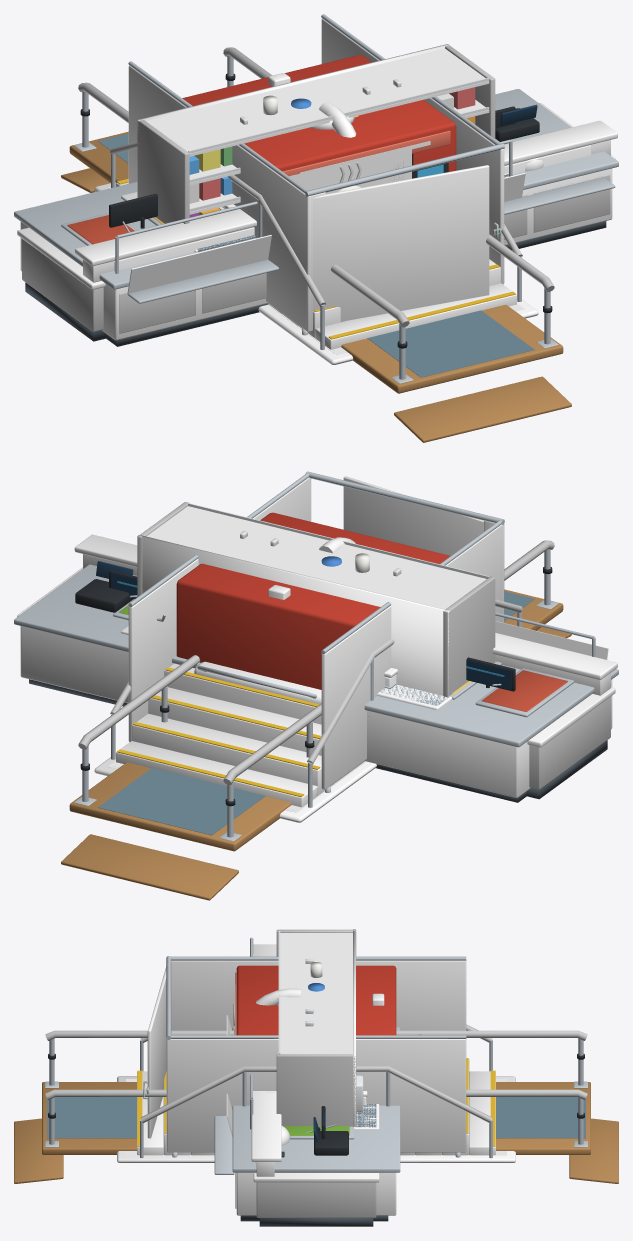
The model's file is furniture_kit.glb.
3 renders of one model, top to bottom at view 1: azimuth 30°, elevation 25°; view 2: azimuth 150°, elevation 25°; view 3: azimuth 270°, elevation 25°, orthographic. The views are drawn at different scales.
Parts seen in each view (by area): view 1: toilet_cubicle, food_counter, medicine_shelves, parallel_bars, reception_desk, vending_machine_0, practice_stairs, food_counter_glass, vending_machine_0_glass, exercise_mat, c_arm, cleaning_shelves; view 2: food_counter, medicine_shelves, toilet_cubicle, parallel_bars, practice_stairs, vending_machine_0, reception_desk, c_arm, exercise_mat, food_counter_glass, pharmacy_counter, cleaning_shelves; view 3: toilet_cubicle, parallel_bars, medicine_shelves, food_counter, reception_desk, practice_stairs, vending_machine_0, exercise_mat, kitchenette, pharmacy_counter, cleaning_shelves, c_arm (+1 smaller).
Boxes of the visible parts, x1=… form: toilet_cubicle: x1=128, y1=14, x2=504, y2=335; food_counter: x1=14, y1=89, x2=618, y2=346; medicine_shelves: x1=137, y1=44, x2=495, y2=223; parallel_bars: x1=61, y1=47, x2=571, y2=442; reception_desk: x1=17, y1=103, x2=617, y2=341; vending_machine_0: x1=182, y1=55, x2=456, y2=178; practice_stairs: x1=110, y1=141, x2=522, y2=350; food_counter_glass: x1=127, y1=157, x2=543, y2=293; vending_machine_0_glass: x1=289, y1=149, x2=411, y2=193; exercise_mat: x1=94, y1=182, x2=538, y2=364; c_arm: x1=310, y1=102, x2=356, y2=137; cleaning_shelves: x1=240, y1=79, x2=401, y2=124; food_counter: x1=14, y1=561, x2=618, y2=802; medicine_shelves: x1=137, y1=502, x2=495, y2=697; toilet_cubicle: x1=128, y1=471, x2=504, y2=792; parallel_bars: x1=61, y1=540, x2=571, y2=900; practice_stairs: x1=110, y1=599, x2=522, y2=807; vending_machine_0: x1=176, y1=512, x2=450, y2=689; reception_desk: x1=17, y1=534, x2=617, y2=799; c_arm: x1=194, y1=537, x2=355, y2=704; exercise_mat: x1=94, y1=753, x2=376, y2=822; food_counter_glass: x1=495, y1=621, x2=608, y2=659; pharmacy_counter: x1=121, y1=626, x2=452, y2=710; cleaning_shelves: x1=240, y1=530, x2=401, y2=576; toilet_cubicle: x1=143, y1=956, x2=466, y2=1157; parallel_bars: x1=14, y1=1030, x2=618, y2=1183; medicine_shelves: x1=276, y1=929, x2=356, y2=1126; food_counter: x1=214, y1=937, x2=400, y2=1221; reception_desk: x1=251, y1=944, x2=379, y2=1226; practice_stairs: x1=137, y1=1024, x2=495, y2=1158; vending_machine_0: x1=235, y1=965, x2=396, y2=1035; exercise_mat: x1=117, y1=1076, x2=515, y2=1162; kitchenette: x1=356, y1=1075, x2=376, y2=1127; pharmacy_counter: x1=354, y1=1104, x2=379, y2=1129; cleaning_shelves: x1=305, y1=959, x2=324, y2=1026; c_arm: x1=256, y1=988, x2=421, y2=1035.
Size of the model in its own units: 5.08 by 1.89 by 6.06.
